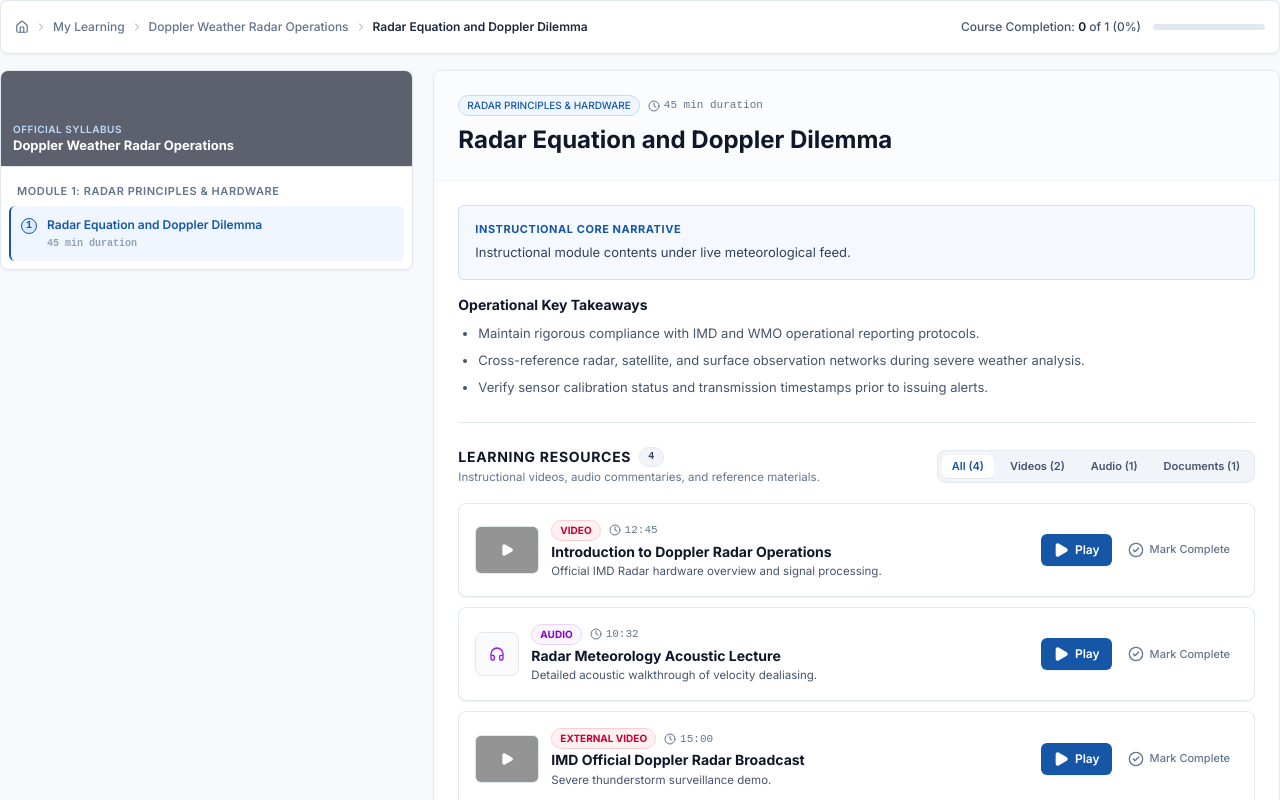
Test: Course Video & Audio Learning Resources Feature Suite › filters resource list between Videos and Audio tabs
Expected: the text "Learning Resources" is shown, [458,447,631,467]
// Click "Videos" filter tab
Click the button "Videos (2)".
click(1037, 467)  # box [1000,455,1075,478]
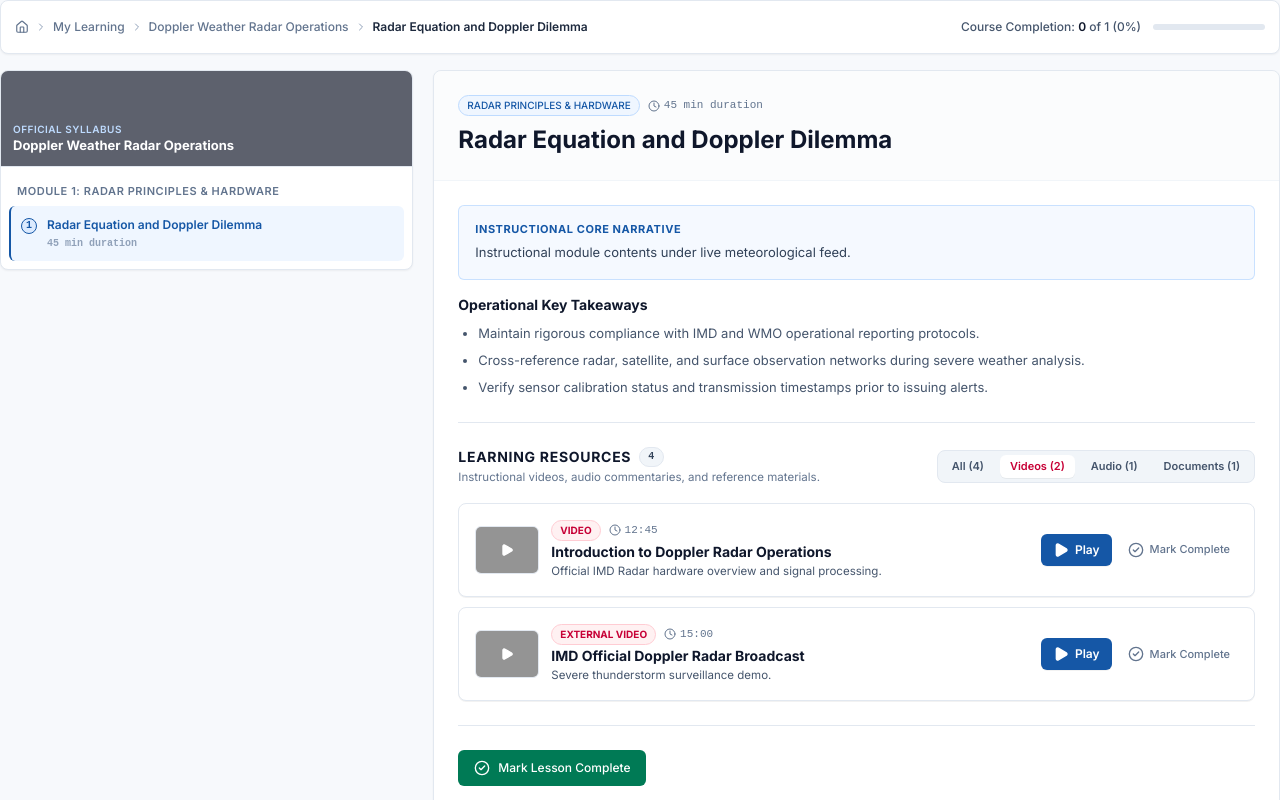
Expected: the heading "Introduction to Doppler Radar Operations" is shown, [551,542,832,560]
Expected: the heading "Radar Meteorology Acoustic Lecture" is gone
// Click "Audio" filter tab
Click the button "Audio (1)".
click(1114, 467)  # box [1081,455,1148,478]
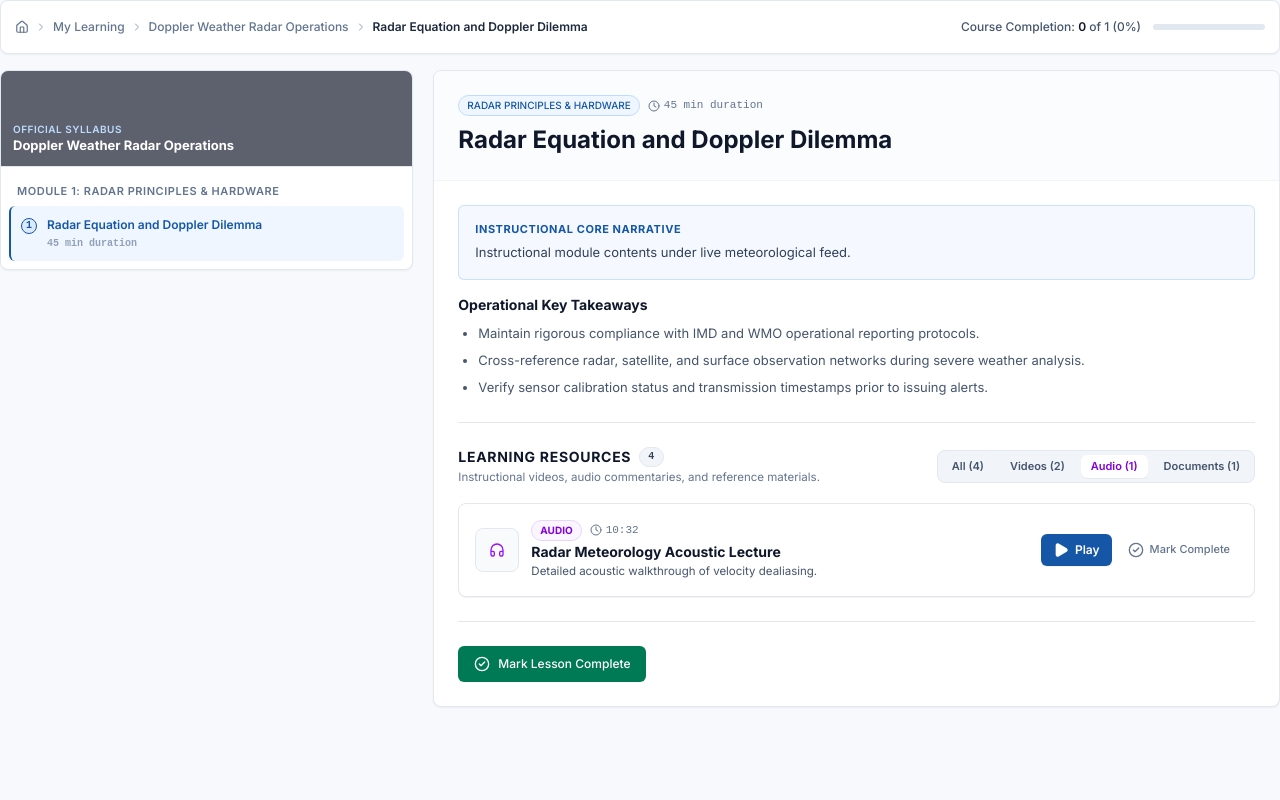
Expected: the heading "Radar Meteorology Acoustic Lecture" is shown, [531,542,781,560]
Expected: the heading "Introduction to Doppler Radar Operations" is gone
